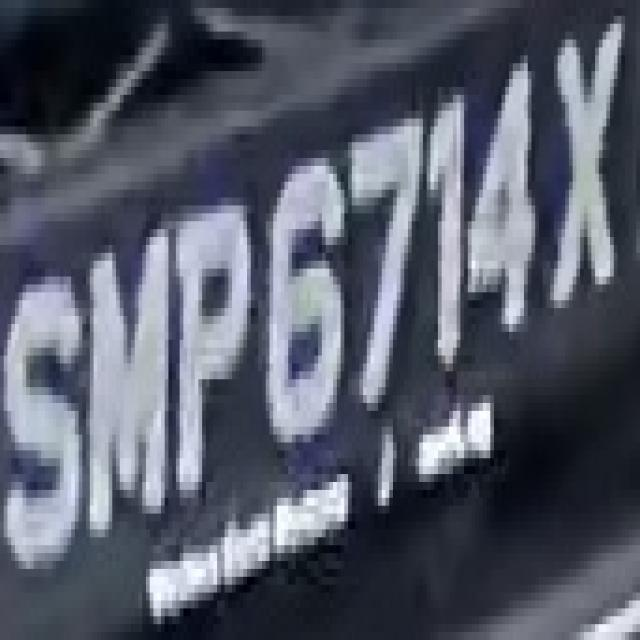1: (430, 63, 479, 395)
4: (460, 47, 543, 356)
6: (262, 142, 352, 458)
7: (333, 102, 427, 426)
M: (79, 213, 176, 530)
P: (172, 174, 251, 521)
S: (0, 237, 82, 569)
X: (550, 8, 629, 316)
